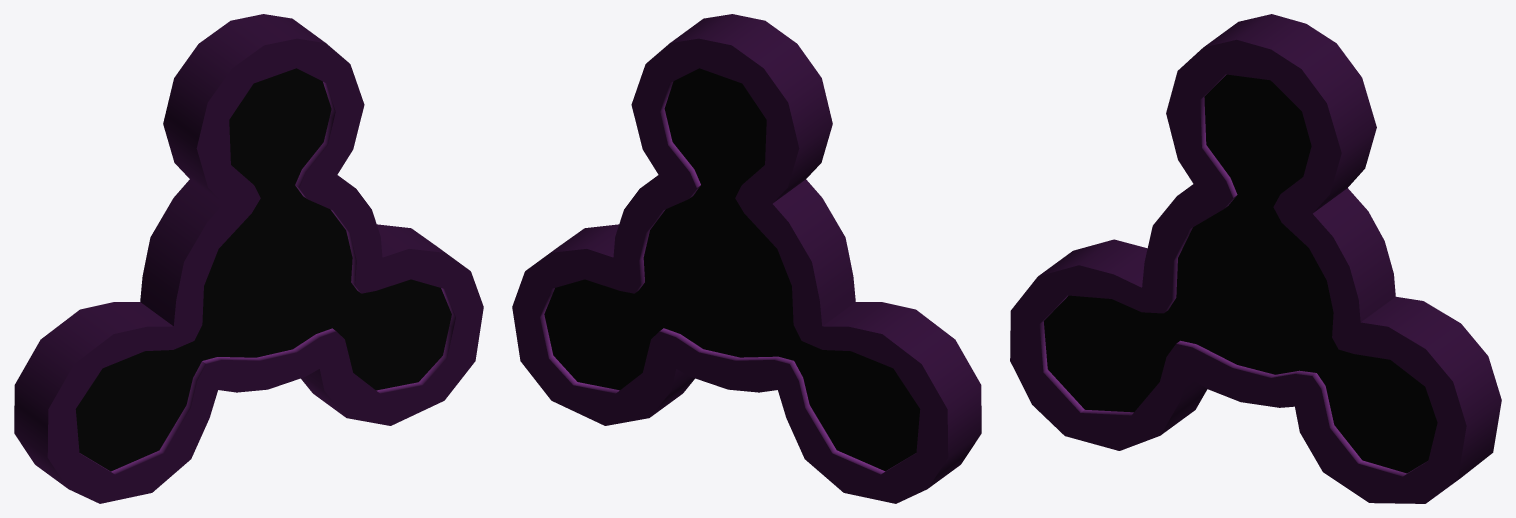
The model's file is Pickup_Buff_Energy.fbx.
3 renders of one model, left to right at view 1: azimuth 30°, elevation 25°; view 2: azimuth 150°, elevation 25°; view 3: azimuth 330°, elevation 25°, orthographic. The views are drawn at different scales.
Parts seen in each view (by area): view 1: Pickup_Buff_Energy; view 2: Pickup_Buff_Energy; view 3: Pickup_Buff_Energy.
Boxes of the visible parts, x1=… form: Pickup_Buff_Energy: x1=14, y1=14, x2=483, y2=503; Pickup_Buff_Energy: x1=512, y1=14, x2=981, y2=503; Pickup_Buff_Energy: x1=1010, y1=14, x2=1501, y2=503.
Bounding box in the file's own units: 0.8499 × 0.7827 × 0.1134.
